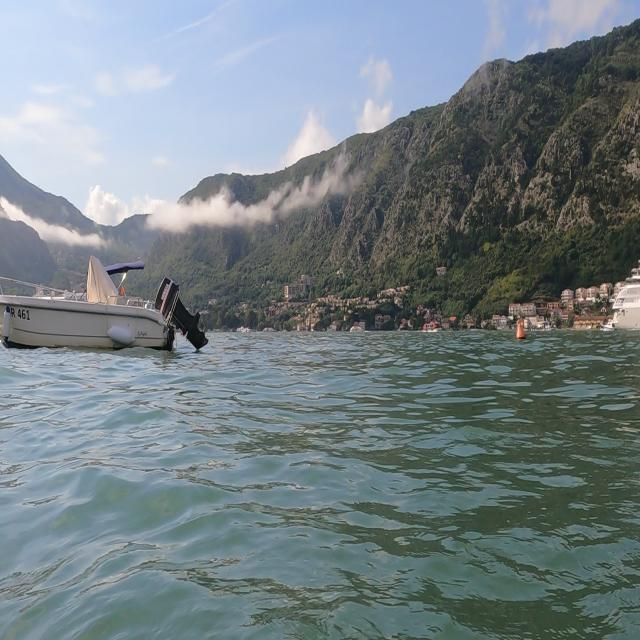boat: (1, 252, 209, 358)
buoy: (511, 309, 529, 344)
